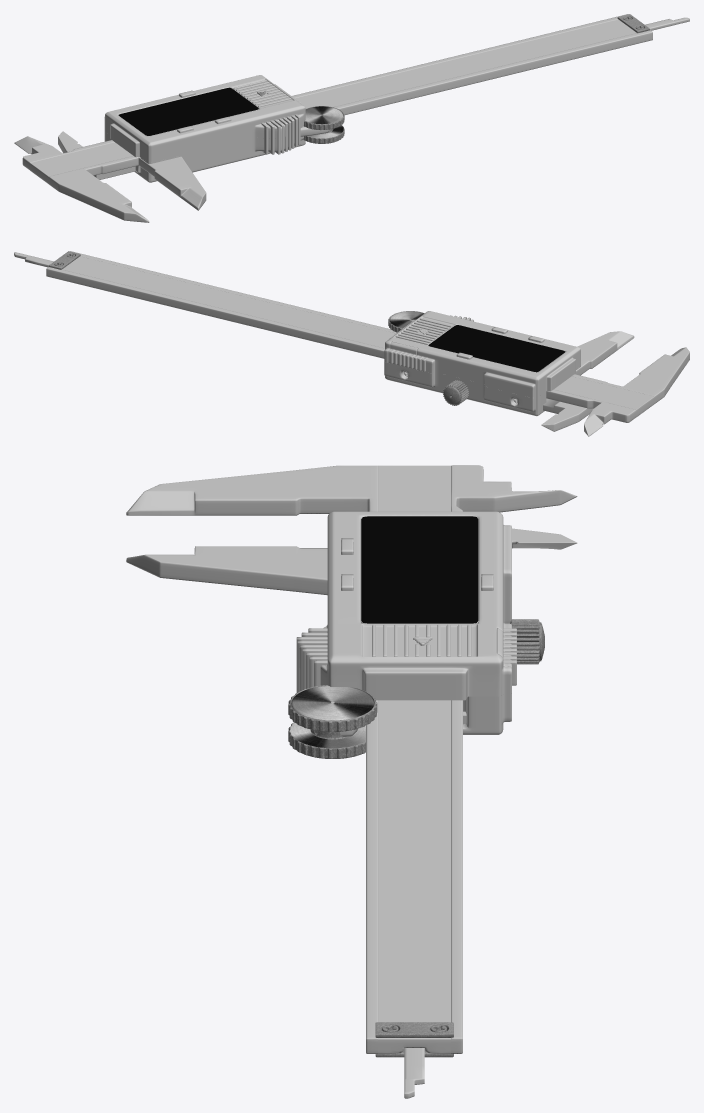
Rendered from neiko_caliper.FBX.
The picture shows the model from 3 angles, top to bottom: view 1: azimuth 30°, elevation 25°; view 2: azimuth 150°, elevation 25°; view 3: azimuth 270°, elevation 25°; orthographic projection. The views are drawn at different scales.
Parts seen in each view (by area): view 1: caliper, body, line, glass, wheel; view 2: caliper, body, line, glass, screw, wheel, clamp; view 3: caliper, line, body, glass, wheel, clamp, screw.
Part boxes in pixels (box(x1,y1,x2,y2)): caliper: box(14, 14, 689, 222); body: box(104, 75, 332, 182); line: box(30, 19, 636, 183); glass: box(119, 87, 258, 135); wheel: box(303, 106, 344, 143); caliper: box(14, 251, 689, 436); body: box(384, 311, 580, 416); line: box(62, 256, 654, 416); glass: box(428, 325, 565, 372); screw: box(443, 380, 468, 405); wheel: box(388, 311, 424, 332); clamp: box(49, 251, 80, 269); caliper: box(126, 465, 577, 1098); line: box(378, 465, 450, 1053); body: box(296, 511, 516, 736); glass: box(361, 516, 478, 623); wheel: box(288, 685, 377, 758); clamp: box(375, 1022, 453, 1057); screw: box(510, 619, 544, 664).
Size of the model in its own units: 24.67 by 1.54 by 7.62.
